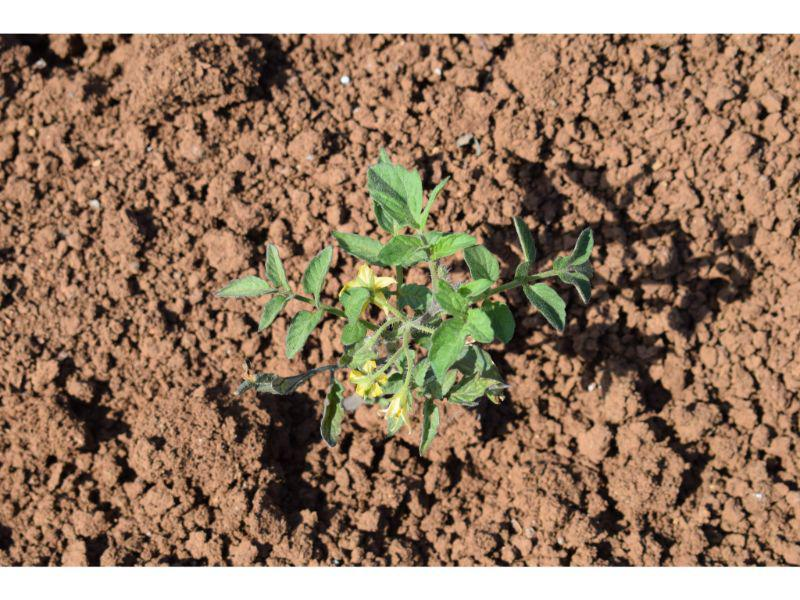tomato: (217, 147, 594, 452)
